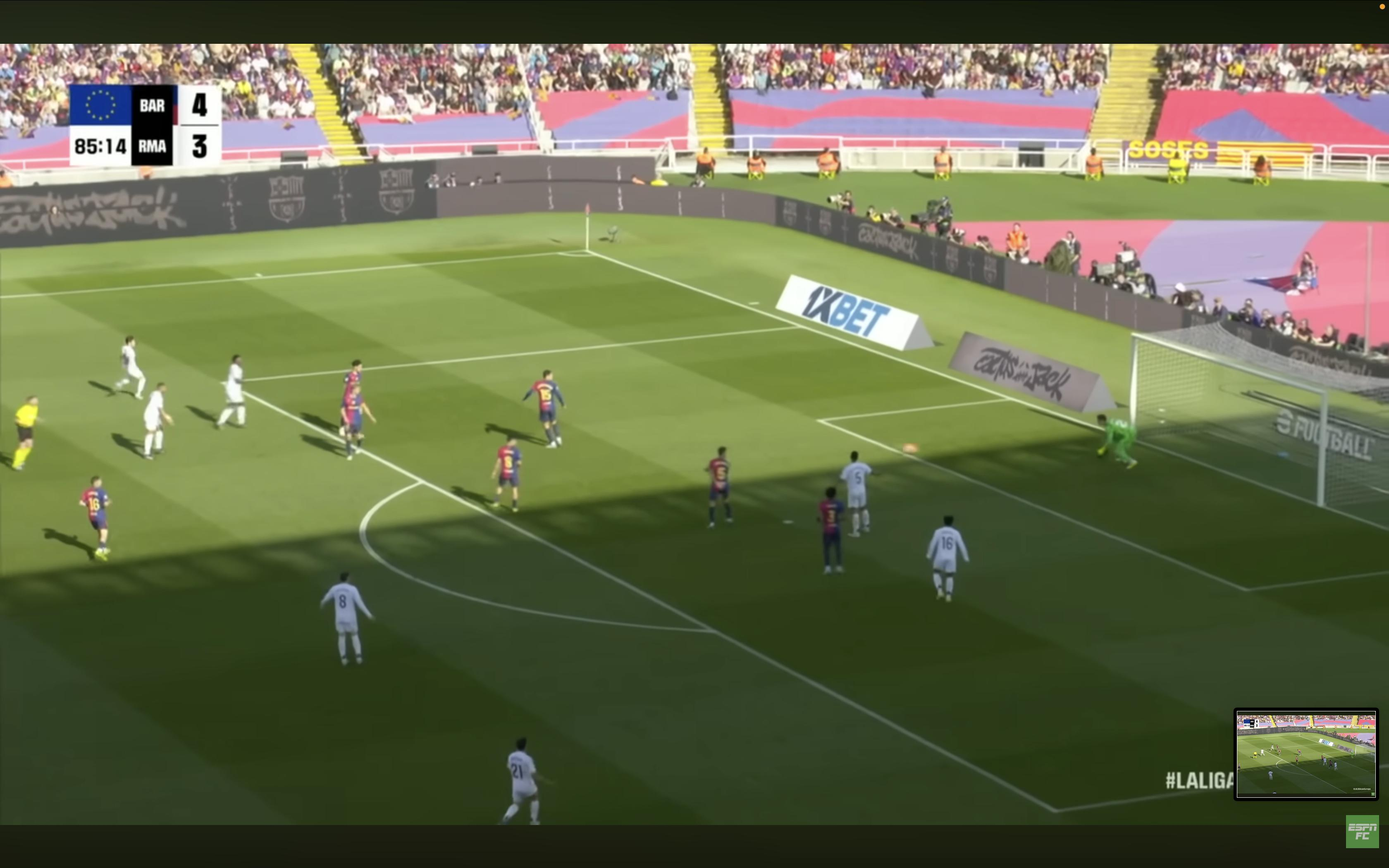ball: (902, 443, 919, 455)
goalkeeper: (1097, 414, 1137, 468)
player: (320, 572, 374, 665), (499, 738, 556, 825), (926, 516, 969, 602), (523, 370, 566, 448), (840, 451, 873, 537), (341, 385, 376, 460), (79, 476, 110, 560), (817, 487, 845, 574), (143, 383, 174, 459), (215, 355, 246, 429), (492, 436, 521, 512), (706, 447, 733, 528), (114, 336, 146, 399), (340, 360, 363, 414)
referee: (11, 396, 40, 471)
